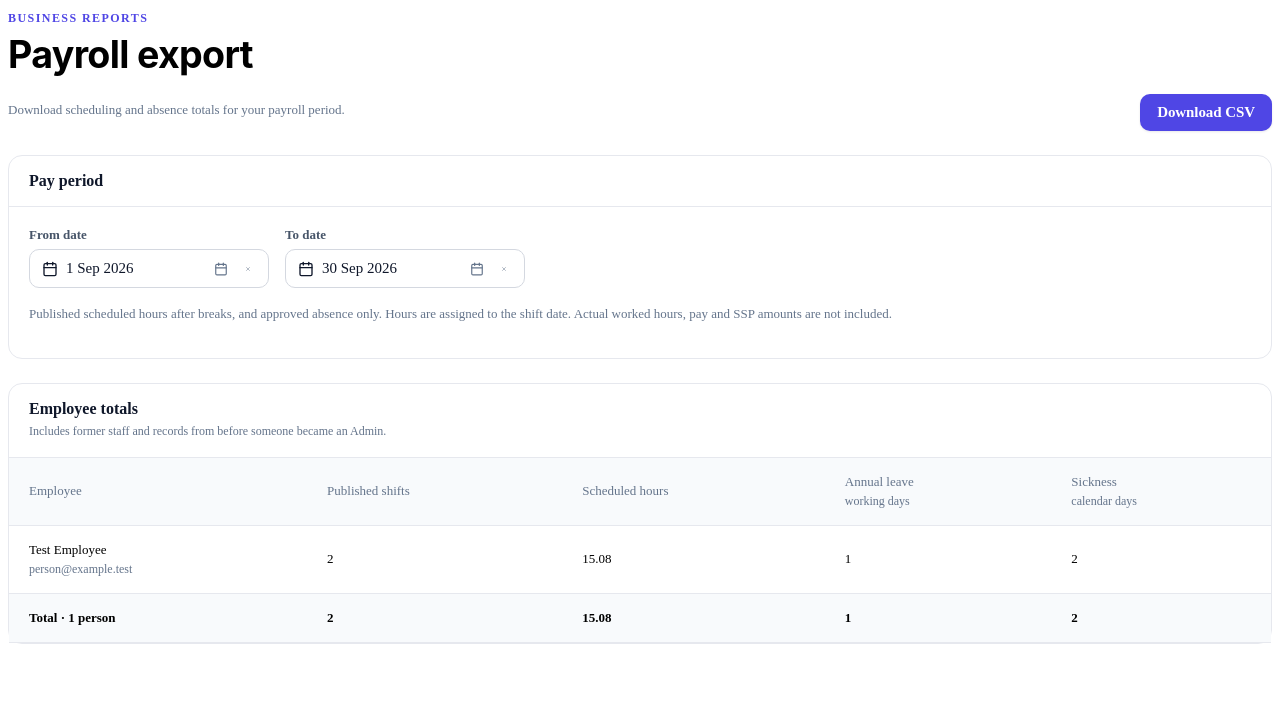
Test: reports a reported export failure and allows retry
Later steps or results of the test are not shown.
Expected: the text "Test Employee" is shown, [29, 542, 106, 557]
Click the button "Download CSV".
click(1206, 113)  # box [1140, 94, 1272, 131]
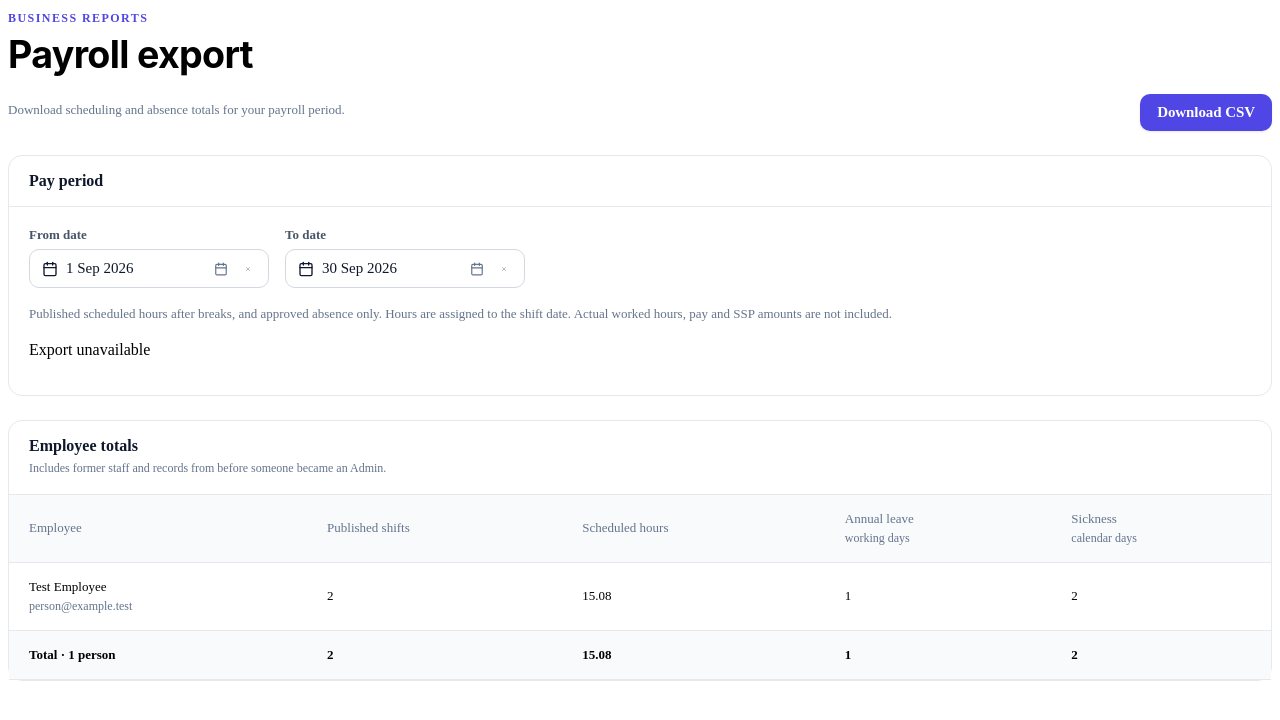
Result: the text "Export unavailable" is shown at [29, 341, 150, 358]
